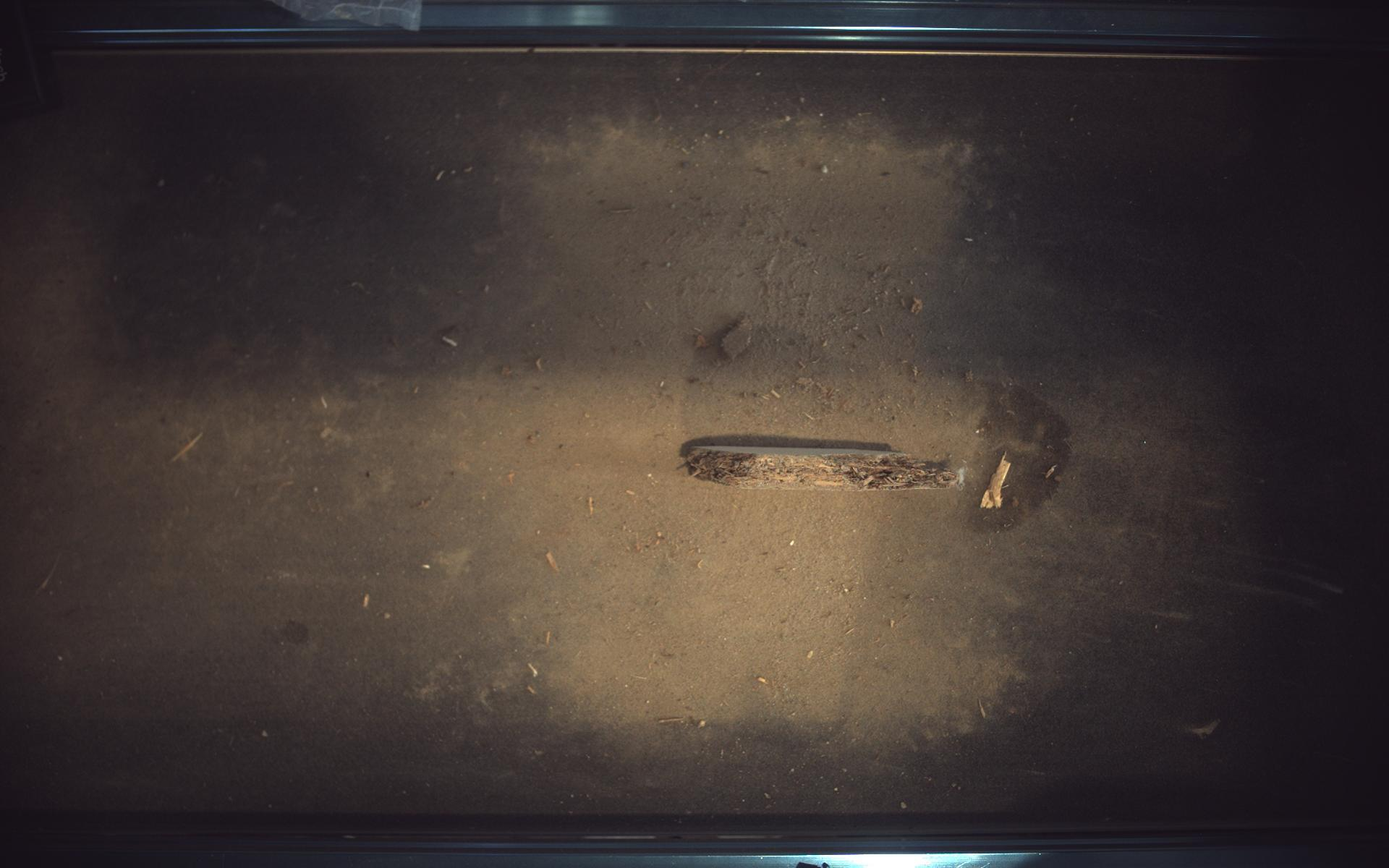wood: (685, 447, 966, 491)
